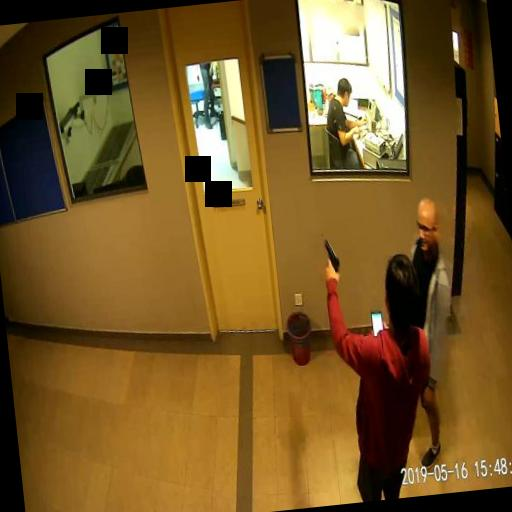Handgun: (320, 237, 340, 275)
